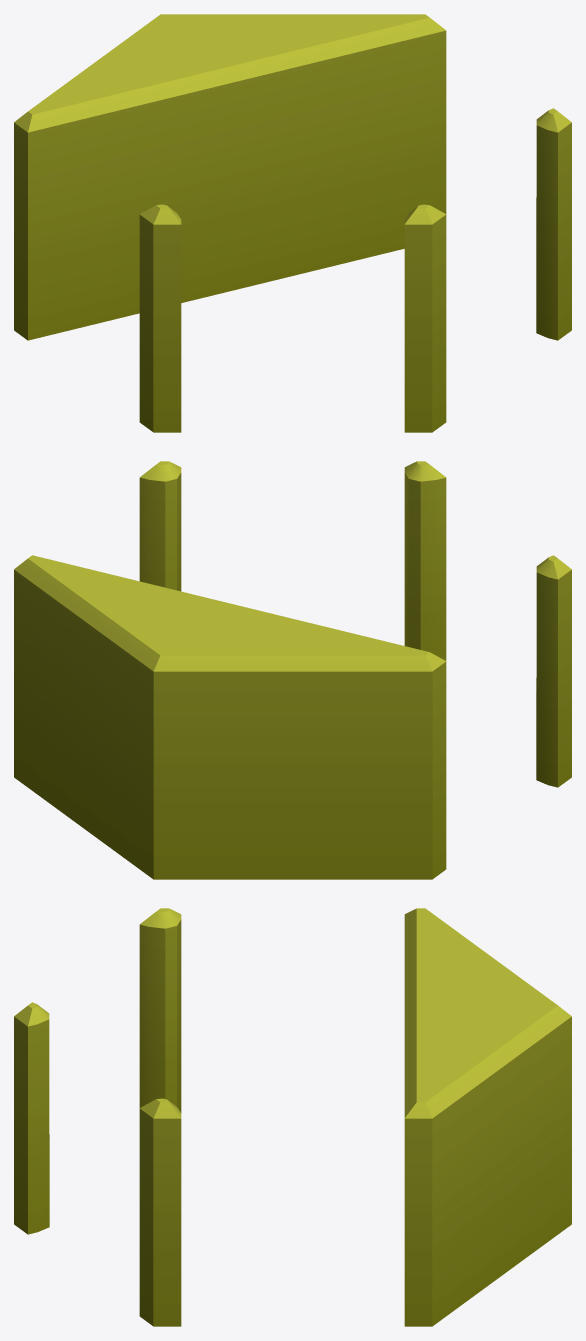
Rendered from kaykit-medieval-hexagon-pack-hex-river-j-waterless.glb.
3 views of the same model, one above another, from view 1: azimuth 30°, elevation 25°; view 2: azimuth 150°, elevation 25°; view 3: azimuth 270°, elevation 25° (orthographic).
Visible parts, largest first — view 1: hex_river_J_waterless; view 2: hex_river_J_waterless; view 3: hex_river_J_waterless.
Boxes of the visible parts, x1,y1,x2,y2 form: hex_river_J_waterless: (14,14,571,432); hex_river_J_waterless: (14,461,571,879); hex_river_J_waterless: (14,908,571,1326).
Bounding box in the file's own units: 2 × 1 × 2.31.
1 material, 1 textured.
